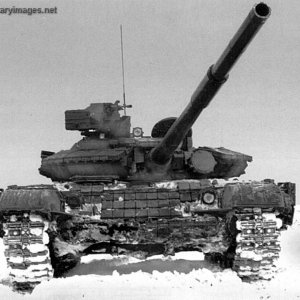Battle Tank: (2, 97, 286, 292)
